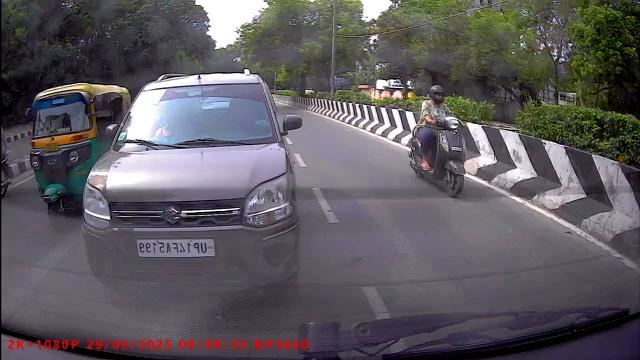motorcycle_with_helmet: (407, 83, 472, 199)
